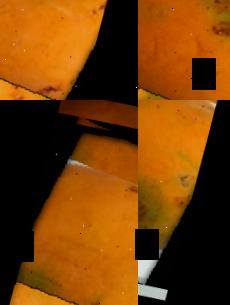Ripe: (0, 111, 138, 305), (138, 100, 230, 289), (0, 0, 133, 100), (138, 0, 230, 100)
